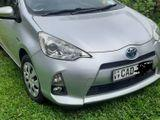car: (0, 0, 160, 107)
